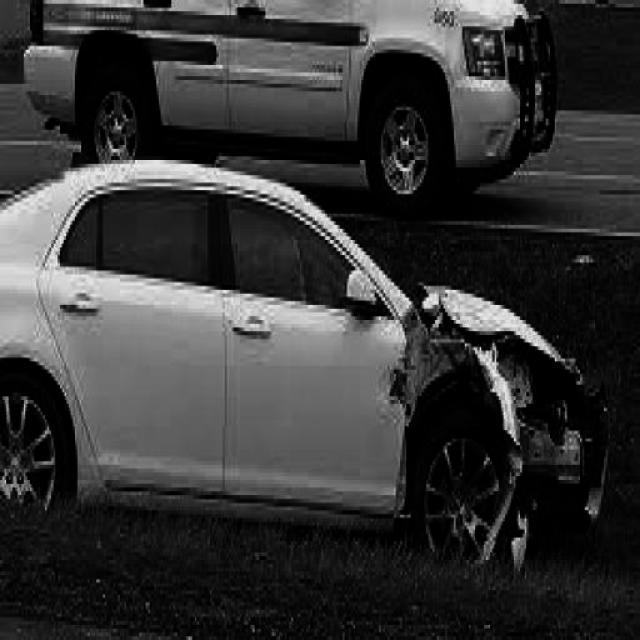car damage: (384, 281, 612, 568)
